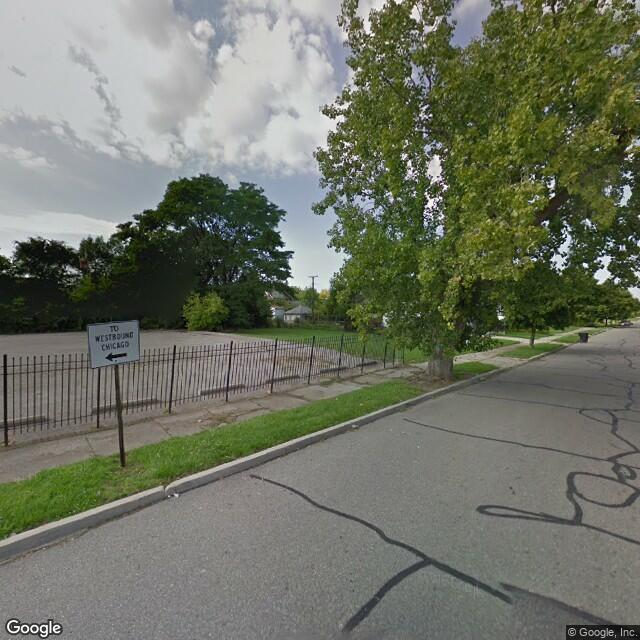litter: (173, 488, 180, 500), (350, 424, 359, 430), (198, 416, 204, 424)
